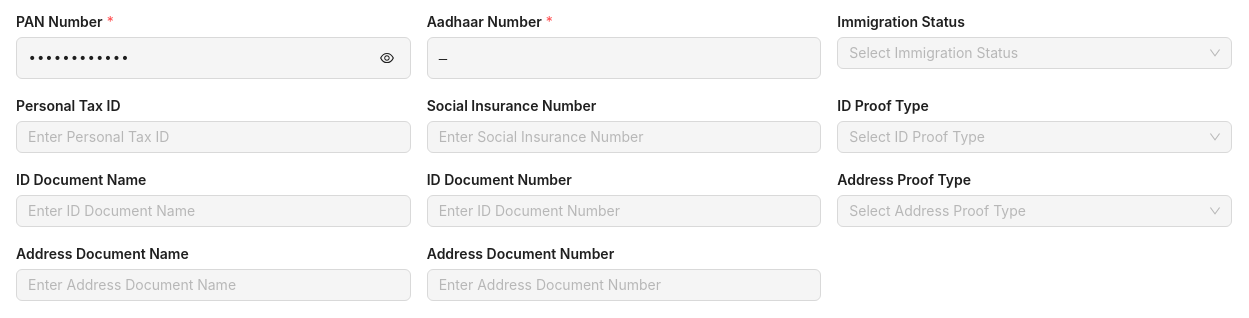
SectionTab component › renders read-only masked fields with reveal toggle when permission is missing
Check: the text "••••••••••••" is shown, box [28, 50, 129, 66]
Note: Toggle reveal
What coordinates should you click on to do the following:
click the button named "reveal pan number"
I would click on:
 (387, 58)
Its box is [375, 46, 399, 70].
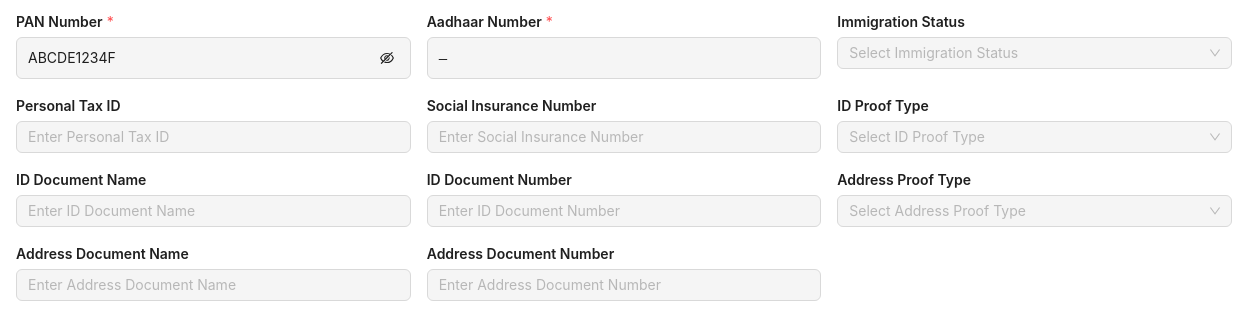
Check: the text "ABCDE1234F" is shown, box [28, 49, 116, 66]
Check: the text "••••••••••••" is gone
Note: Toggle hide
What coordinates should you click on to do the following:
click the button named "hide pan number"
I would click on:
 (387, 58)
Its box is [375, 46, 399, 70].
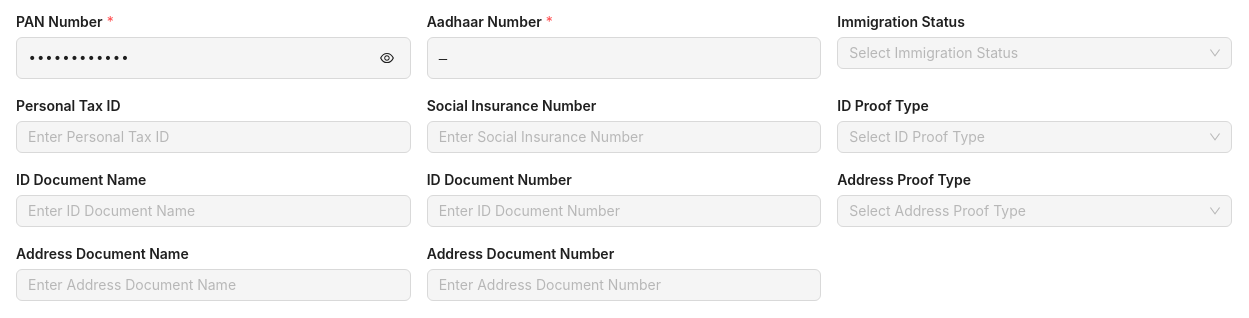
Check: the text "••••••••••••" is shown, box [28, 50, 129, 66]
